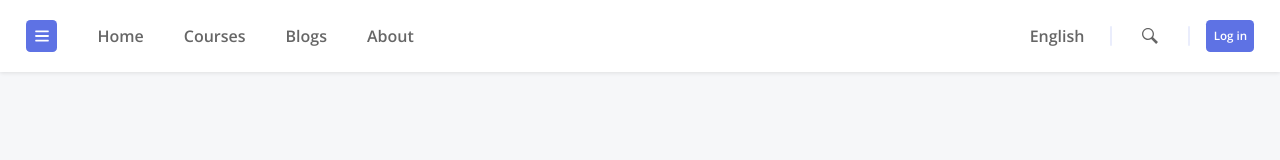
Test case: Dropdowns › Search dropdown opens and closes on button click
Click search button and expect search dropdown to appear
What coordinates should you click on to do the following:
click the element with test id "search-button"
I would click on:
 (1150, 36)
Its box is [1142, 28, 1158, 44].
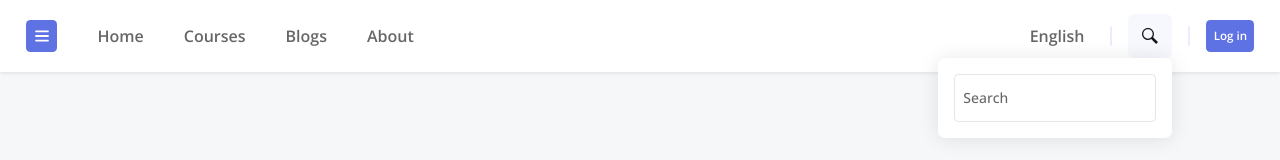
Expected: the element with test id "search-dropdown" is shown, [938, 58, 1172, 138]
Click search button and expect search dropdown to disappear
What coordinates should you click on to do the following:
click the element with test id "search-button"
I would click on:
 (1150, 36)
Its box is [1128, 14, 1172, 58].
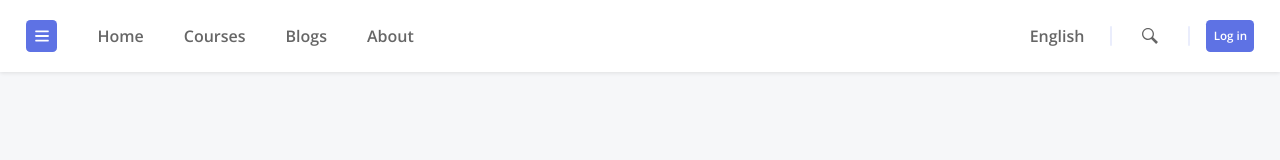
Expected: the element with test id "search-dropdown" is gone
